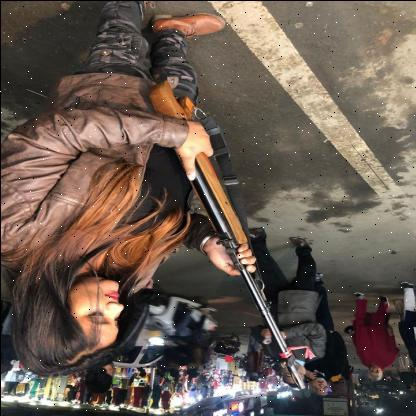rifle: (144, 76, 308, 390)
